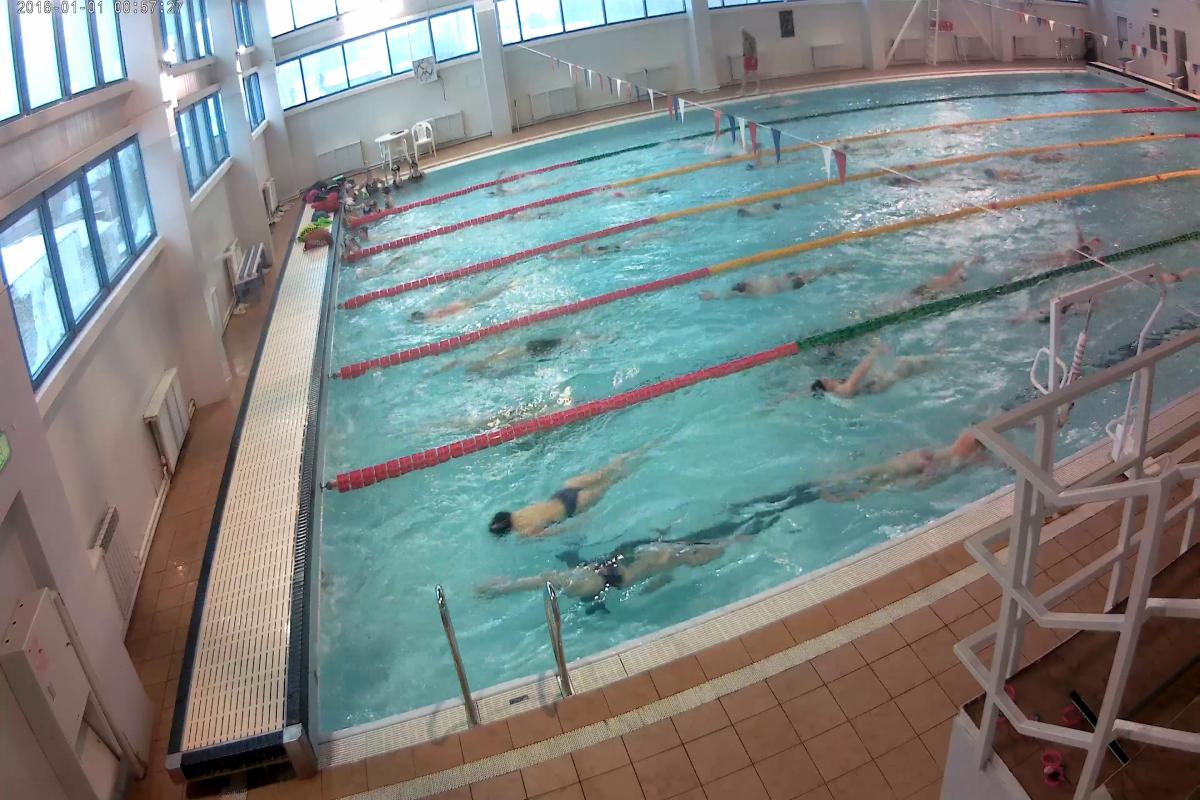swimmer: (494, 538, 739, 608), (476, 452, 632, 540), (834, 428, 974, 507), (782, 341, 934, 413), (440, 336, 582, 392), (691, 263, 846, 311), (389, 291, 507, 340), (543, 223, 663, 264), (898, 251, 979, 305), (1028, 221, 1106, 272), (727, 192, 804, 221), (971, 160, 1026, 186)
